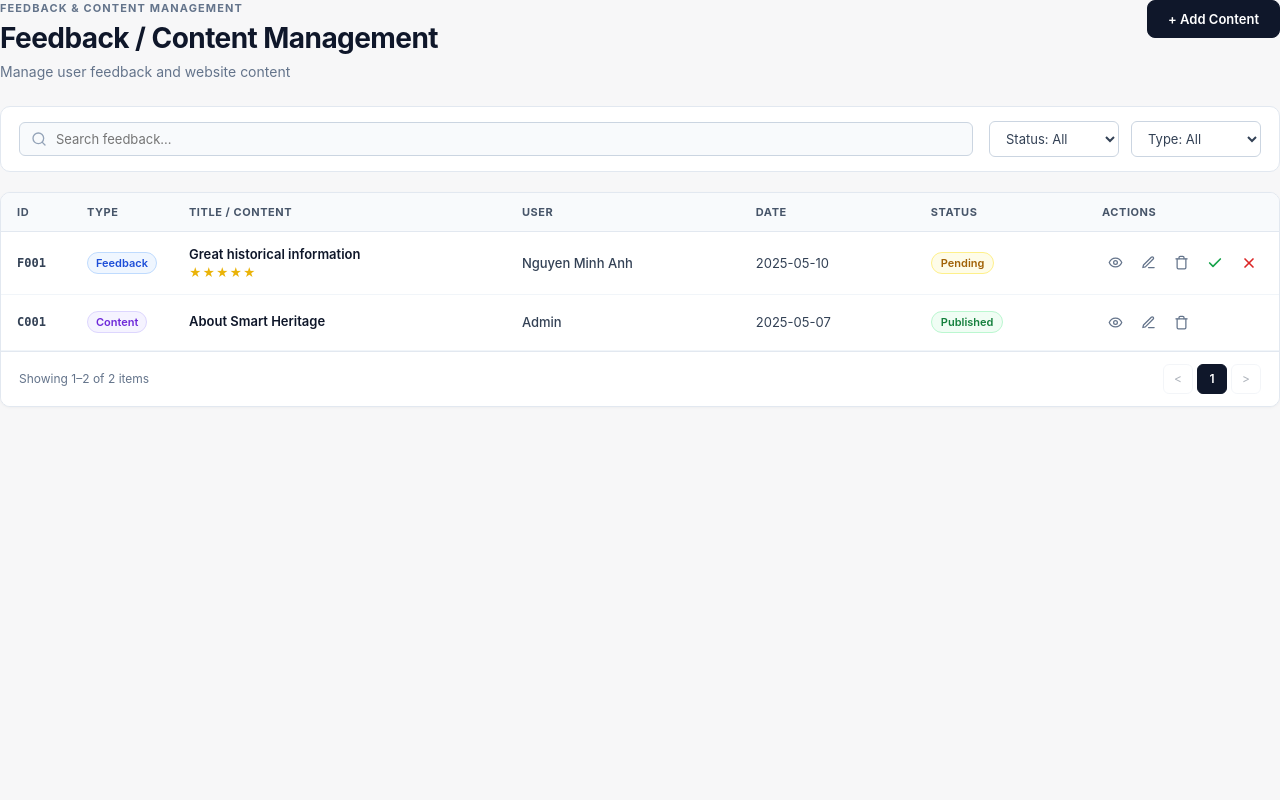
Test: FeedbackPage — Admin Feedback & Content Management › closes view and form modals when pressing Escape
Click the button named "View F001".
click(1116, 262)  # box 1102,249 -> 1129,276
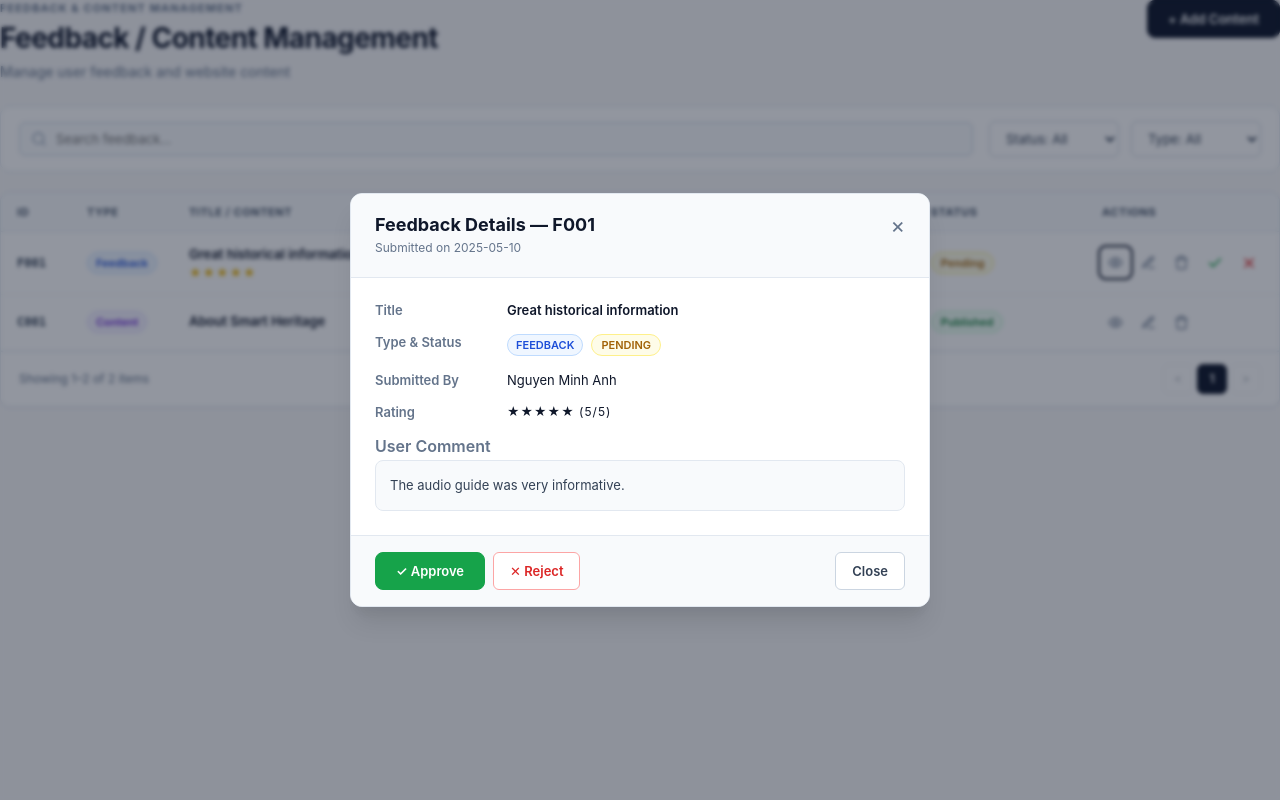
Expected: the dialog is shown, 350,193 -> 930,607
Press Escape
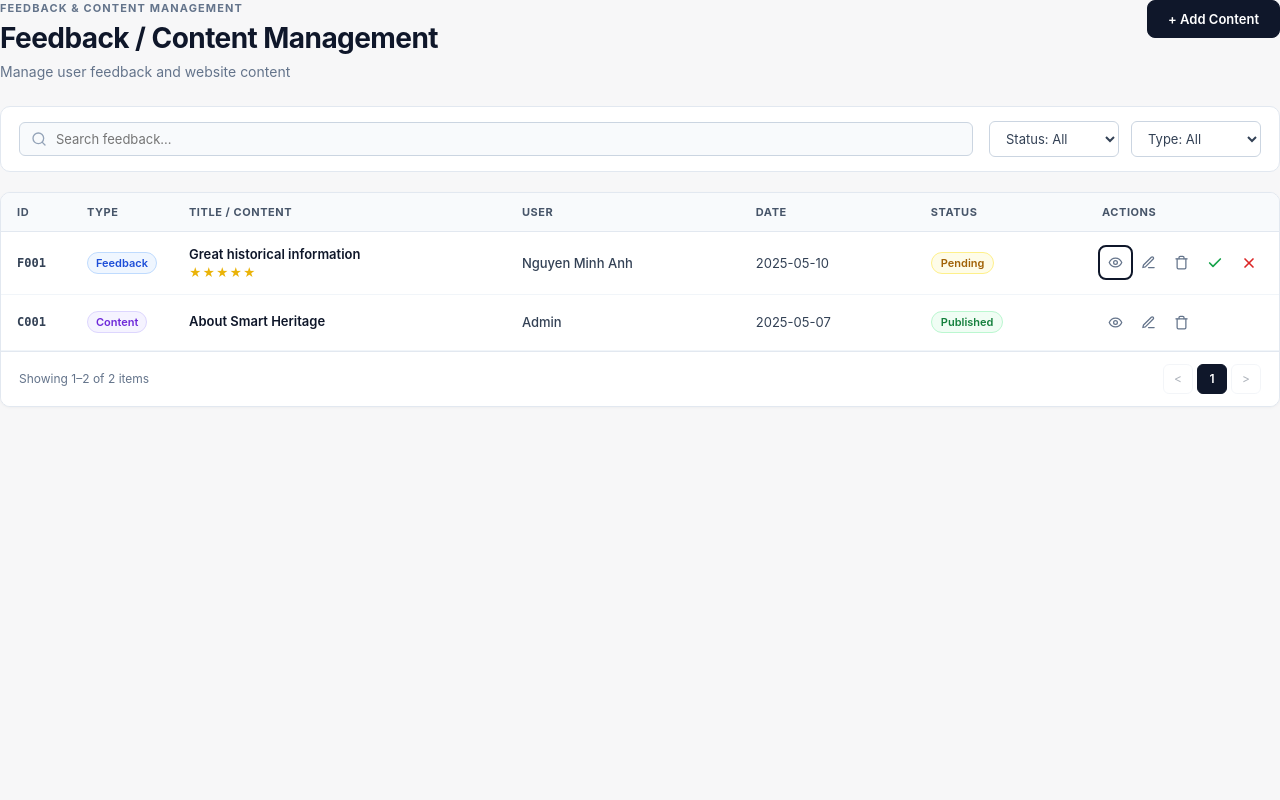
Expected: the dialog is gone
Click the button "+ Add Content".
click(1214, 19)  # box 1147,0 -> 1279,38
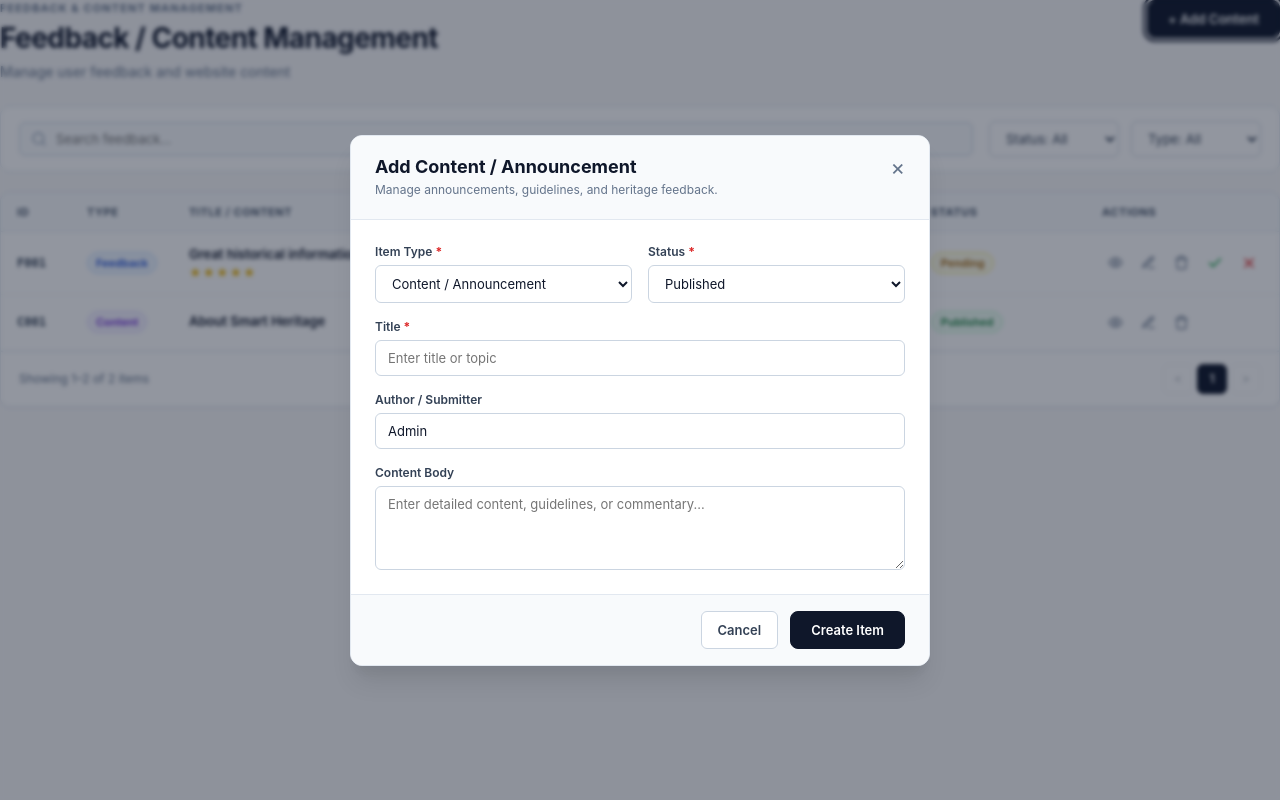
Expected: the dialog is shown, 350,134 -> 930,666
Press Escape
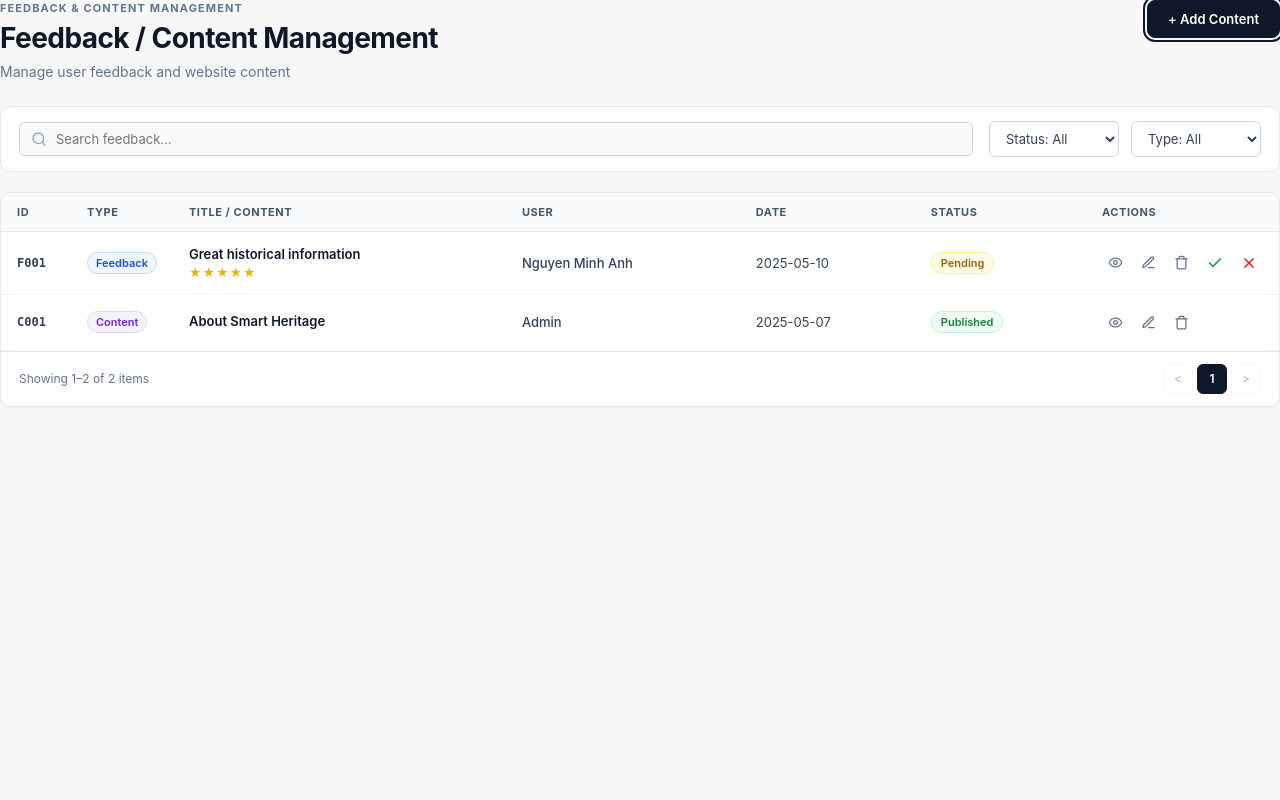
Expected: the dialog is gone
